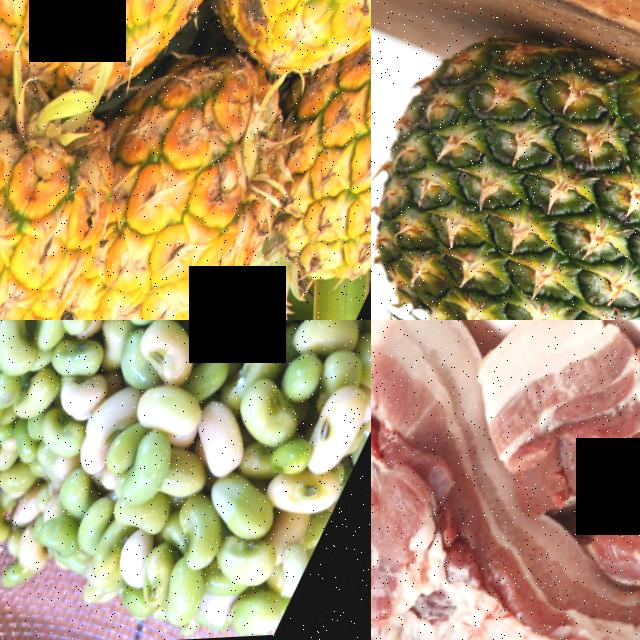peas: (0, 320, 371, 638)
pineapple: (371, 0, 640, 320), (51, 40, 325, 320), (0, 47, 151, 320), (248, 13, 371, 320), (0, 0, 272, 136), (187, 0, 371, 116)
pork belly: (409, 320, 640, 567), (371, 434, 640, 640), (371, 320, 505, 526), (578, 340, 640, 640)
